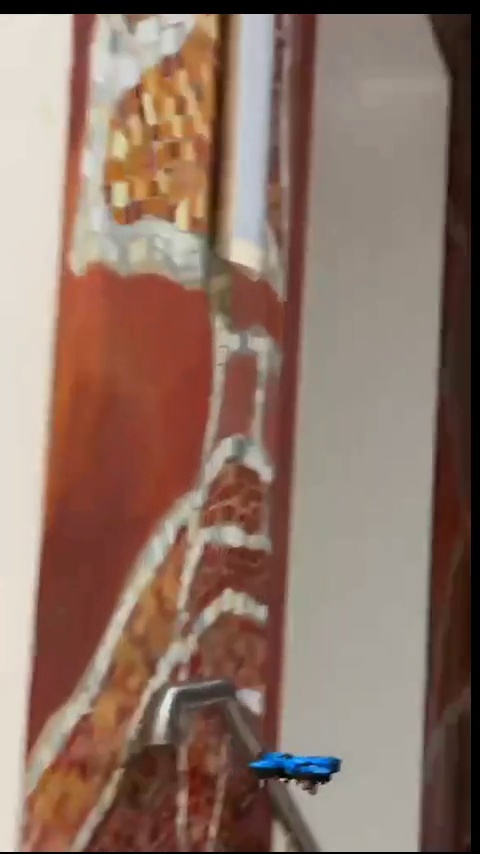drone: (245, 753, 338, 790)
